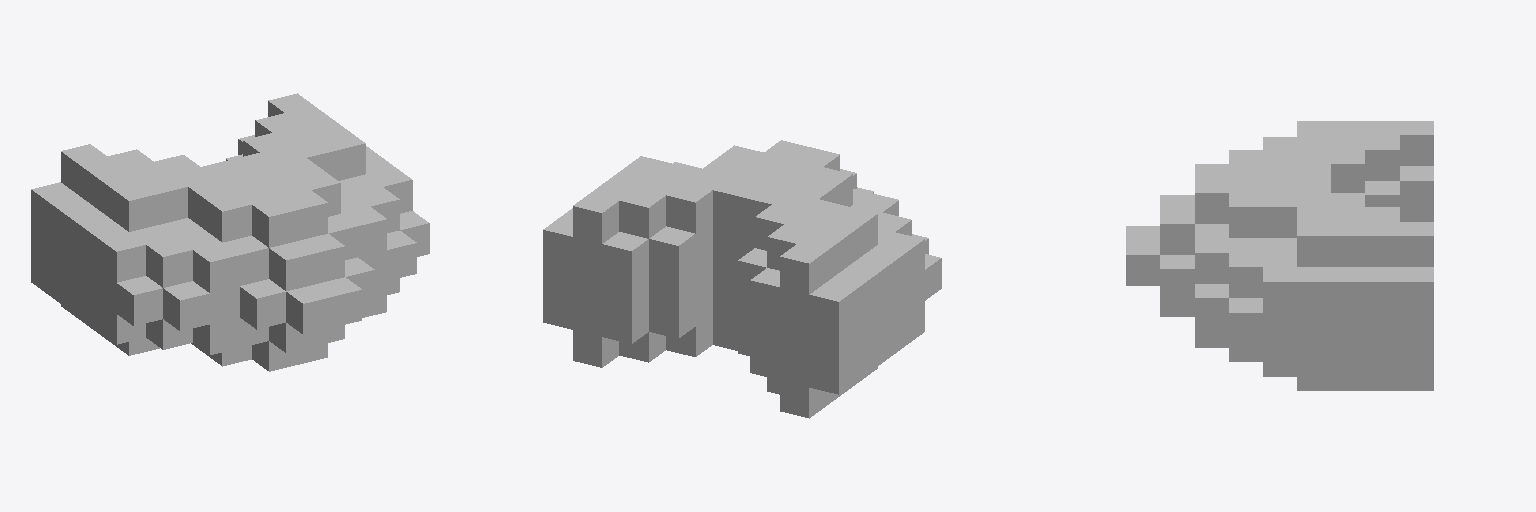
The model's file is spaceship.obj.
3 renders of one model, left to right at view 1: azimuth 30°, elevation 25°; view 2: azimuth 150°, elevation 25°; view 3: azimuth 270°, elevation 25°, orthographic.
Visible parts, largest first — view 1: object 1; view 2: object 1; view 3: object 1.
Part boxes in pixels (left/top/right/bottom): object 1: left=31, top=93, right=429, bottom=371; object 1: left=543, top=140, right=941, bottom=418; object 1: left=1126, top=121, right=1433, bottom=390.
Size of the model in its own units: 1 by 0.5 by 0.9.